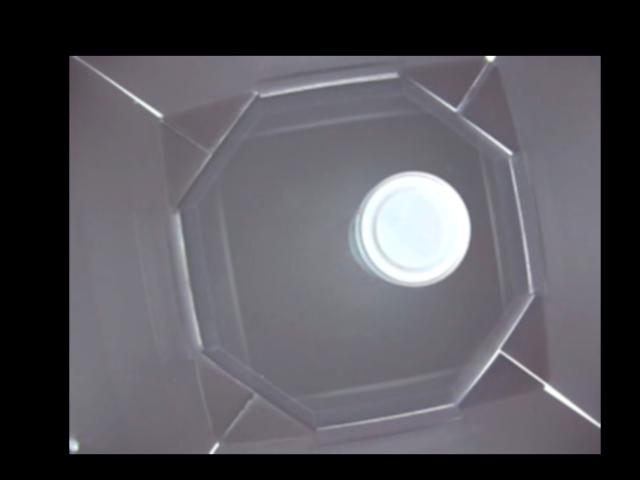Bottle: (351, 170, 474, 285)
